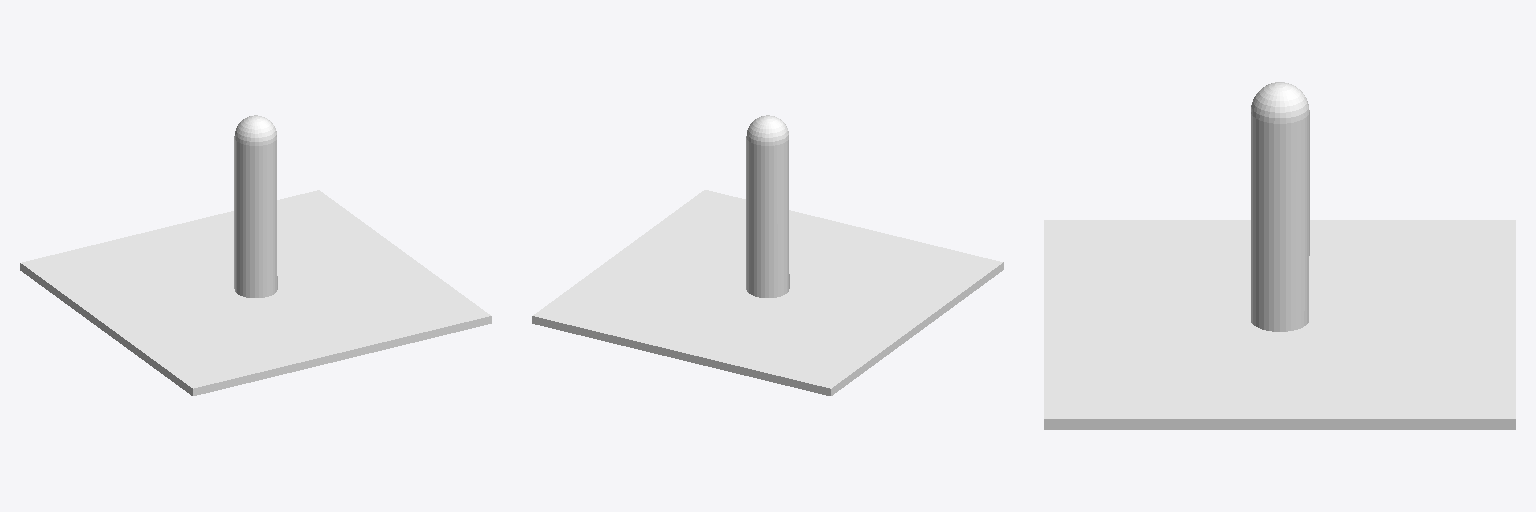
The robot description file, URDF, robot "plate_buffer.urdf":
<?xml version="1.0" ?>
<robot name="plate_buffer.urdf">
  <link name="plate_buffer">
    <inertial>
      <origin rpy="0 0 0" xyz="0 0 0"/>
       <mass value="0.1"/>
       <inertia ixx="1" ixy="0" ixz="0" iyy="1" iyz="0" izz="1"/>
    </inertial>
    <visual>
      <origin rpy="1.57 0 0" xyz="0 0 0"/>
      <geometry>
        <mesh filename="plate_buffer.obj"/>
      </geometry>
      <material name="white">
       <color rgba="1.0 1.0 1.0 1.0"/>
     </material>
    </visual>
    <collision>
      <origin rpy="1.57 0 0" xyz="0 0 0"/>
      <geometry>
				<mesh filename="plate_buffer.obj"/>
      </geometry>
    </collision>
  </link>
</robot>

--- Facts derived from the render (not from the file) ---
Views: 3 orthographic renders of the robot side by side, from view 1: azimuth 30°, elevation 25°; view 2: azimuth 150°, elevation 25°; view 3: azimuth 270°, elevation 25°.
Robot: plate_buffer.urdf — 1 links, 0 joints (none); root link plate_buffer; default pose: every joint at zero.
Links seen in each view (by area): view 1: plate_buffer; view 2: plate_buffer; view 3: plate_buffer.
Link boxes in pixels (bbox=[...]): plate_buffer: bbox=[20, 115, 491, 395]; plate_buffer: bbox=[532, 115, 1003, 395]; plate_buffer: bbox=[1044, 82, 1515, 429].
Bounding box of the posed robot: 0.04 × 0.04 × 0.023 m (x, y, z).
1 mesh visuals loaded from 1 distinct referenced files (1 OBJ).